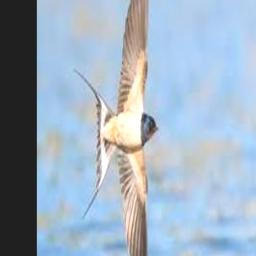Swallow: (73, 0, 158, 256)
